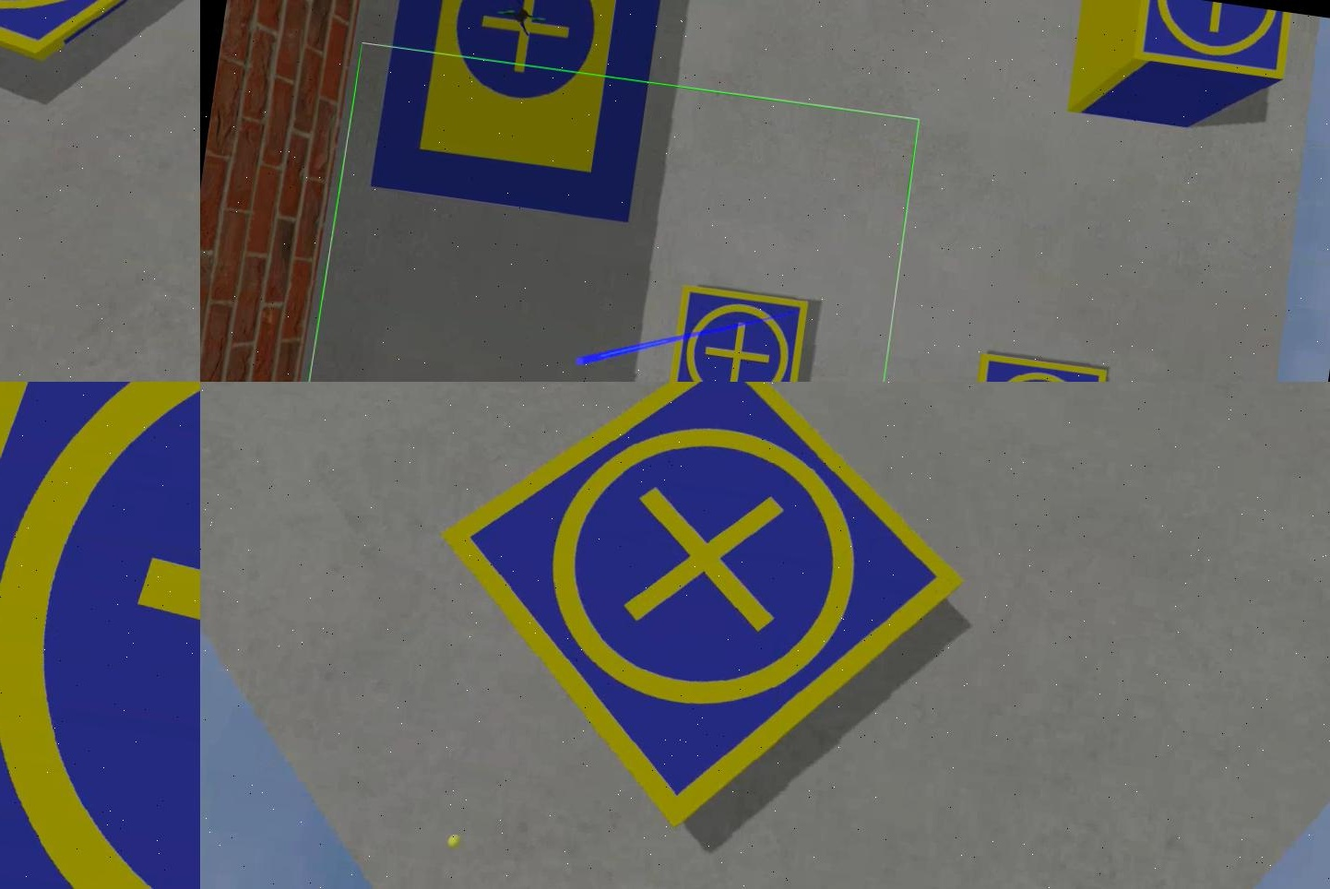large_base: (365, 1, 672, 229)
small_base: (396, 382, 993, 860), (0, 382, 199, 889), (0, 1, 199, 86), (663, 280, 812, 382), (1133, 1, 1295, 85)
